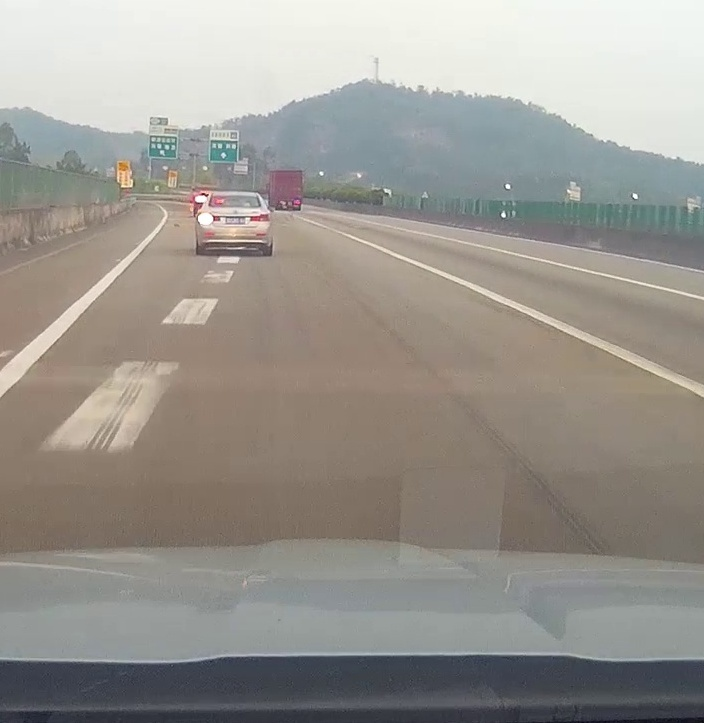L_light: (197, 213, 220, 221)
R_light: (250, 214, 271, 222)
T_light: (229, 196, 239, 198)
day-left: (196, 193, 272, 256)
